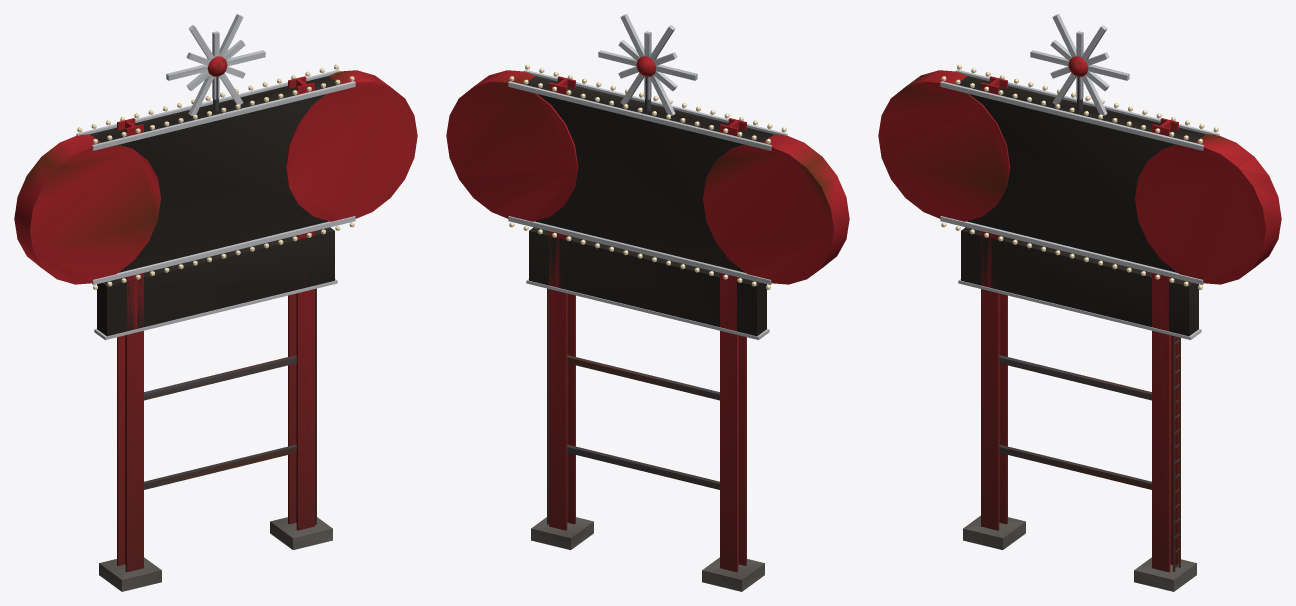
File: TruckStopPylon.glb
3 renders of one model, left to right at view 1: azimuth 30°, elevation 25°; view 2: azimuth 150°, elevation 25°; view 3: azimuth 330°, elevation 25°, orthographic.
Visible parts, largest first — view 1: TruckStopPylon_ts_red, TruckStopPylon_ts_board, TruckStopPylon_ts_chrome, TruckStopPylon_ts_steel, TruckStopPylon_concrete, TruckStopPylon_ts_bulb; view 2: TruckStopPylon_ts_red, TruckStopPylon_ts_board, TruckStopPylon_ts_chrome, TruckStopPylon_ts_steel, TruckStopPylon_concrete, TruckStopPylon_ts_bulb; view 3: TruckStopPylon_ts_red, TruckStopPylon_ts_board, TruckStopPylon_ts_chrome, TruckStopPylon_ts_steel, TruckStopPylon_concrete, TruckStopPylon_ts_bulb.
Part boxes in pixels (x1,y1,x2,y2): TruckStopPylon_ts_red: (14,56,417,572); TruckStopPylon_ts_board: (90,76,339,336); TruckStopPylon_ts_chrome: (76,14,355,339); TruckStopPylon_ts_steel: (144,76,316,524); TruckStopPylon_concrete: (99,517,332,591); TruckStopPylon_ts_bulb: (77,64,354,289); TruckStopPylon_ts_red: (446,56,849,572); TruckStopPylon_ts_board: (524,76,773,336); TruckStopPylon_ts_chrome: (508,14,787,339); TruckStopPylon_ts_steel: (547,76,719,524); TruckStopPylon_concrete: (531,517,764,591); TruckStopPylon_ts_bulb: (509,64,786,289); TruckStopPylon_ts_red: (878,56,1281,572); TruckStopPylon_ts_board: (956,76,1205,336); TruckStopPylon_ts_chrome: (940,14,1219,339); TruckStopPylon_ts_steel: (999,76,1180,571); TruckStopPylon_concrete: (963,515,1196,591); TruckStopPylon_ts_bulb: (941,64,1218,289).
Size of the model in its own units: 27.2 by 36.03 by 2.8.
